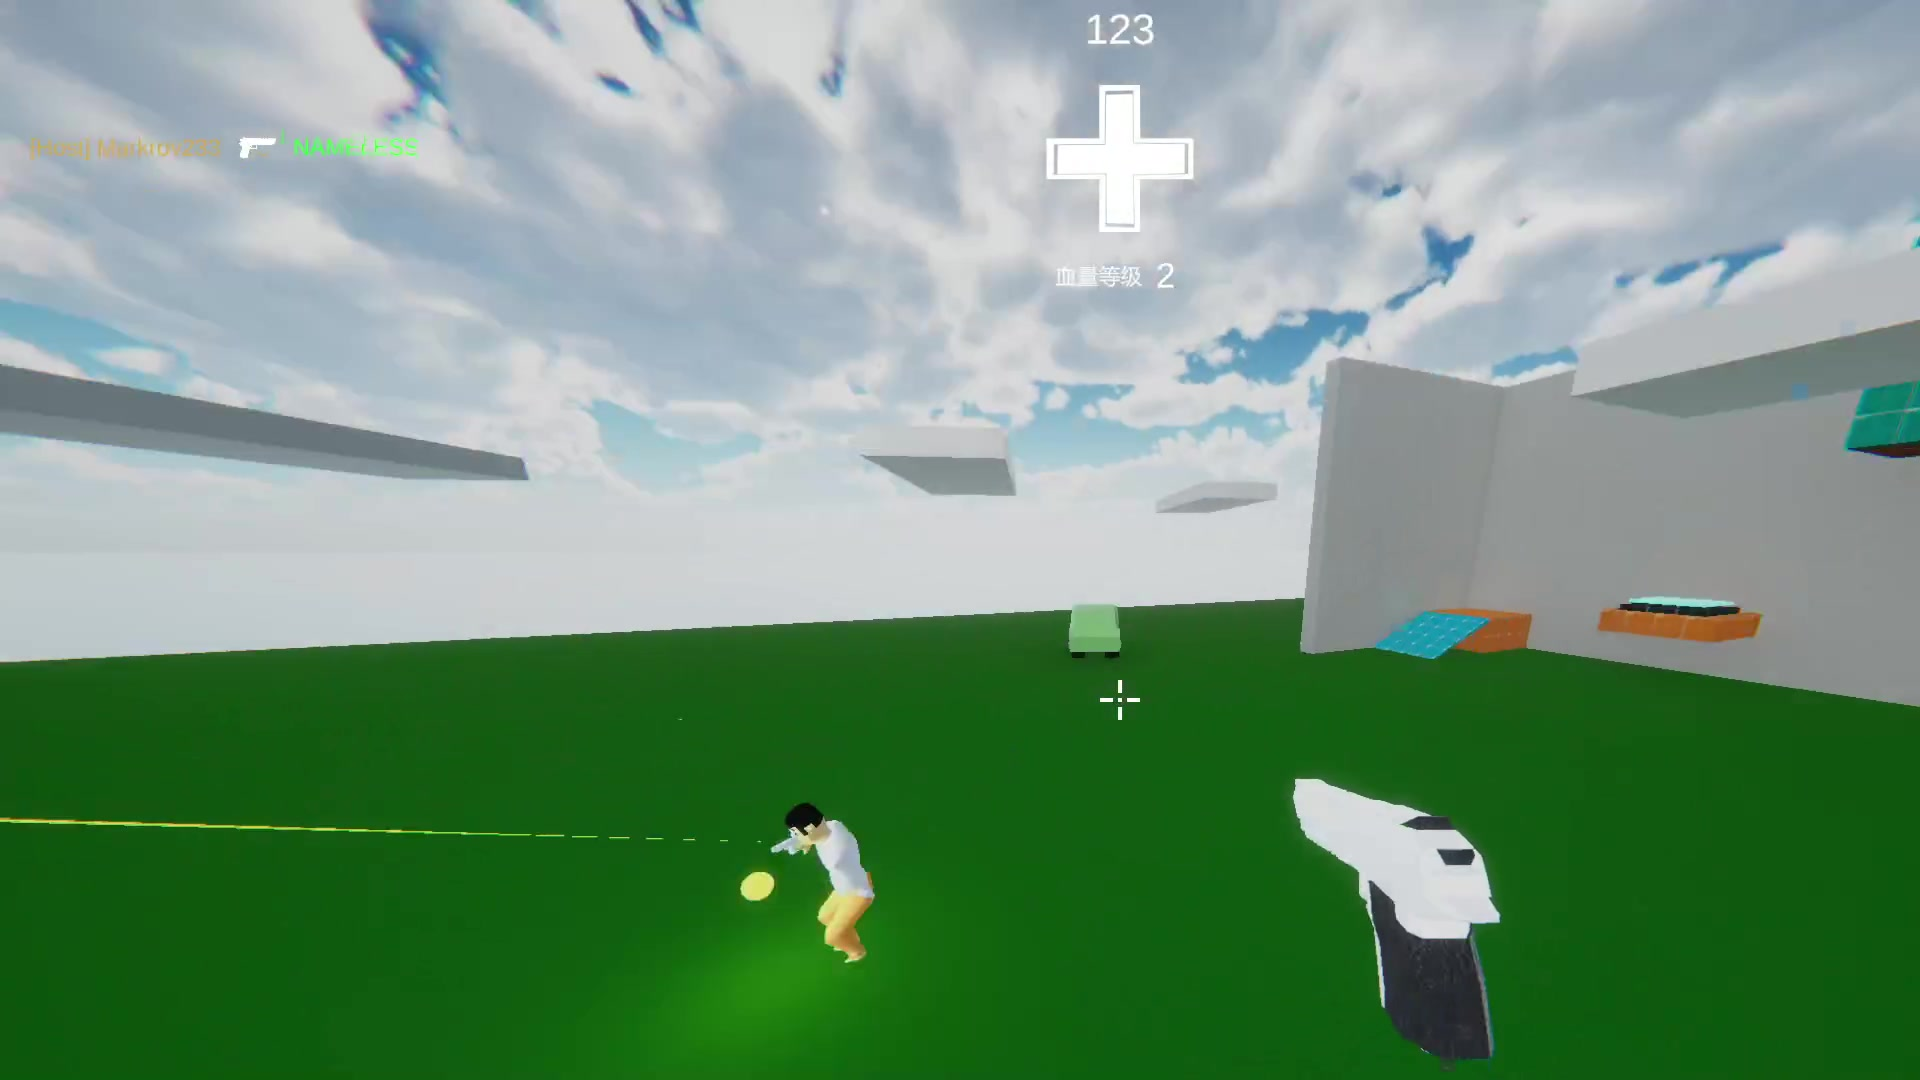human: (784, 801, 879, 966)
